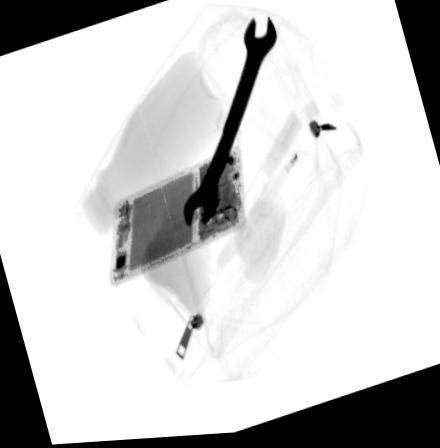Wrench: (182, 15, 278, 234)
